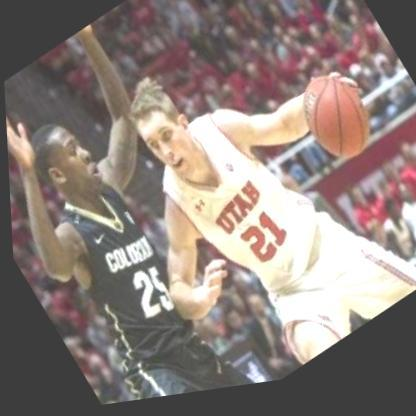basketball: (277, 59, 390, 192)
